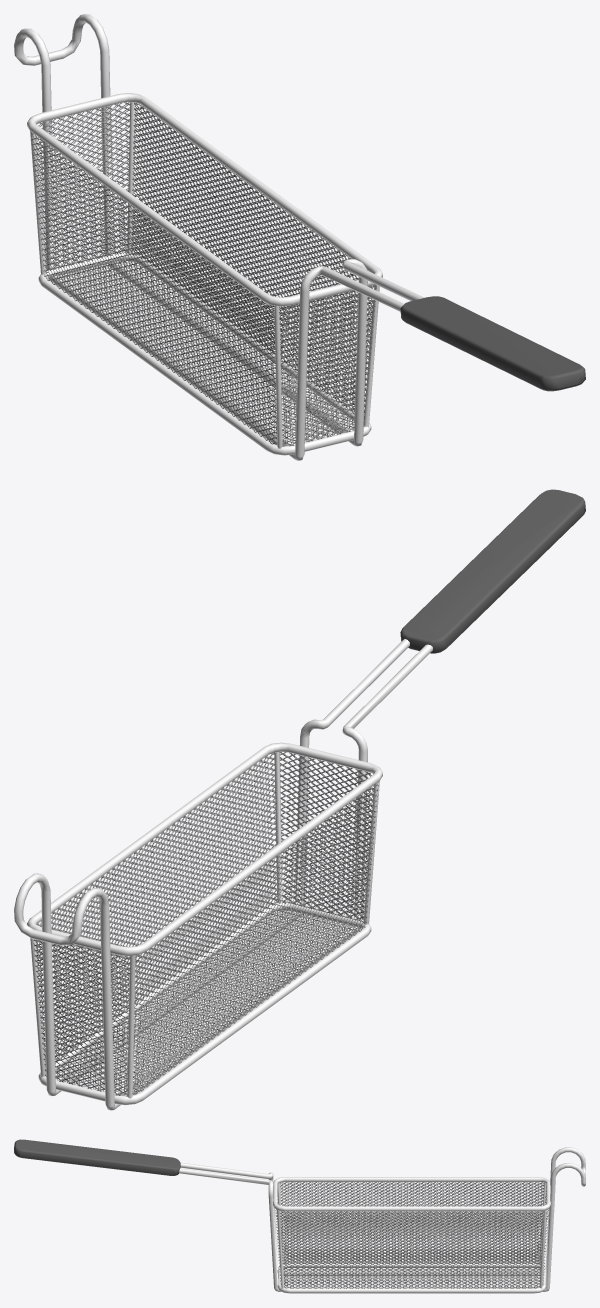
File: FryerBasket.fbx
The picture shows the model from 3 angles, top to bottom: view 1: azimuth 30°, elevation 25°; view 2: azimuth 150°, elevation 25°; view 3: azimuth 270°, elevation 25°; orthographic projection. The views are drawn at different scales.
Parts seen in each view (by area): view 1: Basket; view 2: Basket; view 3: Basket.
Boxes of the visible parts, box(x1,y1,x2,y2) form: Basket: box(14, 14, 585, 460); Basket: box(14, 489, 585, 1110); Basket: box(14, 1139, 585, 1293).
Bounding box in the file's own units: 8 × 16.67 × 61.77.
